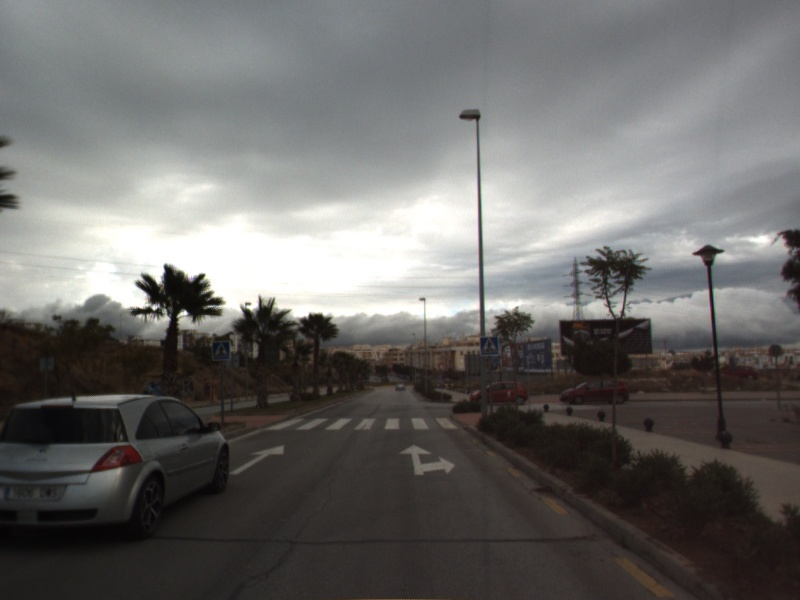STRAIGHT: (228, 443, 286, 476)
STRAIGHT_RIGHT: (397, 442, 457, 477)
